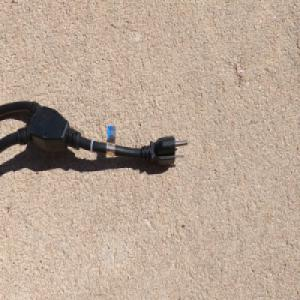Wire: (0, 95, 188, 166)
